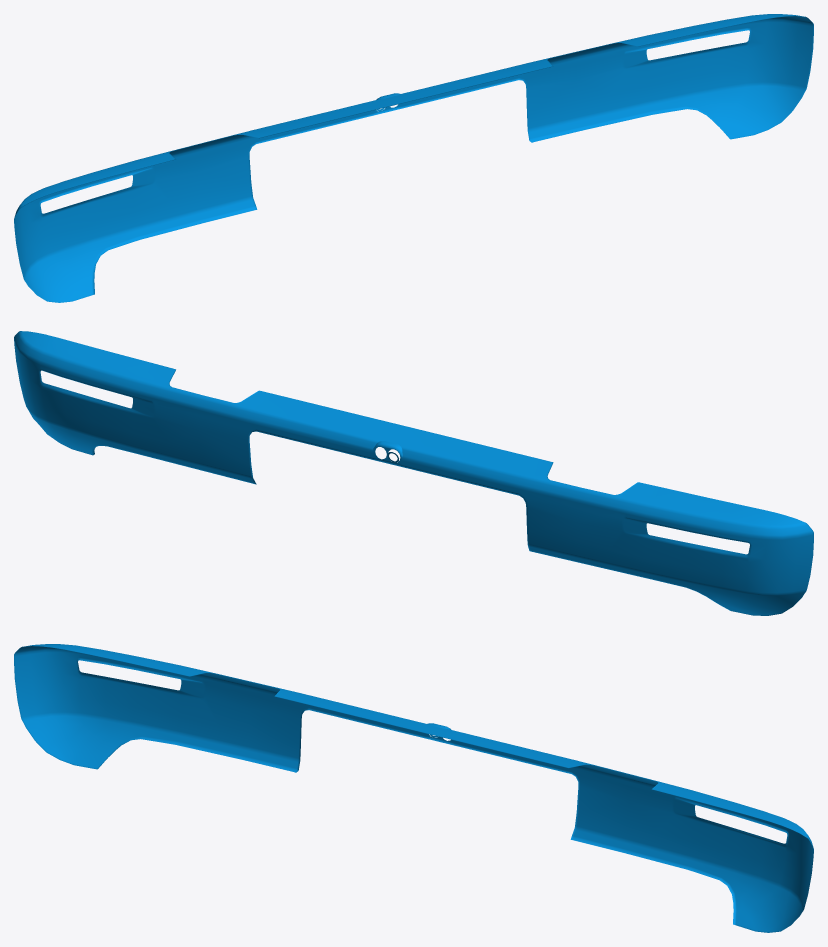
File: задние_бампер.glb
The picture shows the model from 3 angles, top to bottom: view 1: azimuth 30°, elevation 25°; view 2: azimuth 150°, elevation 25°; view 3: azimuth 330°, elevation 25°; orthographic projection.
Visible parts, largest first — view 1: M:SM_RearKit_0000_001_SM_RearKit_0000_MAT_CarPaint_004_M:MA.; view 2: M:SM_RearKit_0000_001_SM_RearKit_0000_MAT_CarPaint_004_M:MA.; view 3: M:SM_RearKit_0000_001_SM_RearKit_0000_MAT_CarPaint_004_M:MA..
Part boxes in pixels (left/top/right/bottom): M:SM_RearKit_0000_001_SM_RearKit_0000_MAT_CarPaint_004_M:MA.: left=14, top=14, right=813, bottom=302; M:SM_RearKit_0000_001_SM_RearKit_0000_MAT_CarPaint_004_M:MA.: left=14, top=331, right=813, bottom=615; M:SM_RearKit_0000_001_SM_RearKit_0000_MAT_CarPaint_004_M:MA.: left=14, top=644, right=813, bottom=932.
Size of the model in its own units: 1.8 by 0.2383 by 0.1147.
